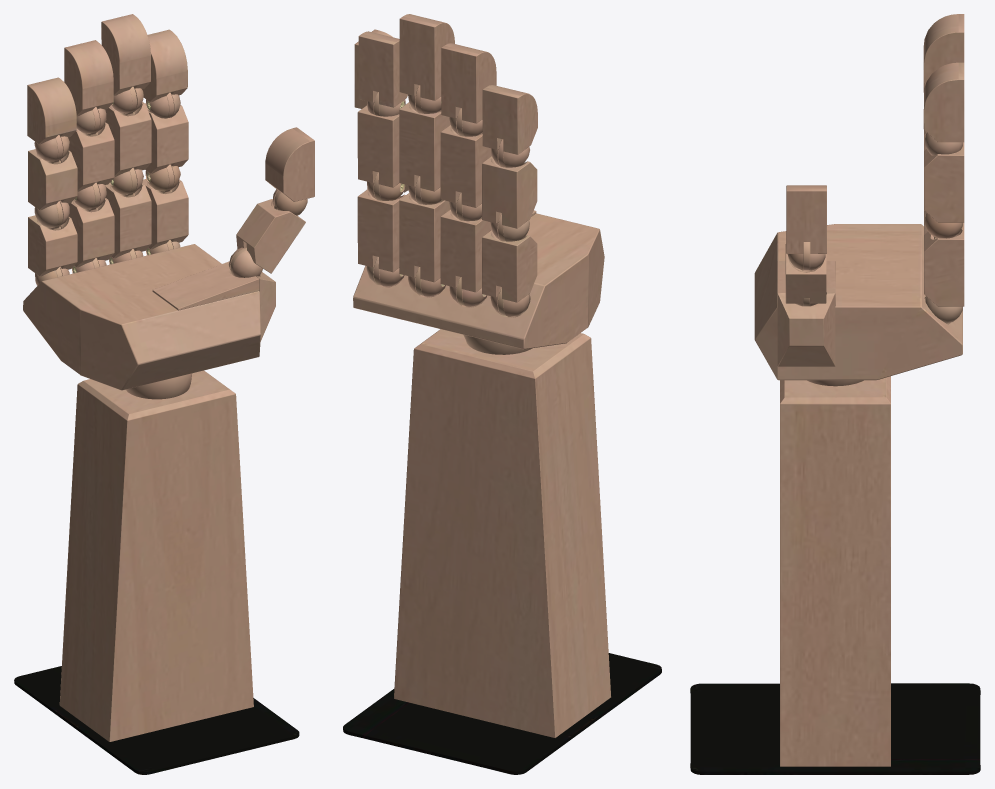
Rendered from lanespelare-accessories-stand.glb.
The picture shows the model from 3 angles, left to right: view 1: azimuth 30°, elevation 25°; view 2: azimuth 150°, elevation 25°; view 3: azimuth 270°, elevation 25°; orthographic projection. The views are drawn at different scales.
Parts seen in each view (by area): view 1: model; view 2: model; view 3: model.
Boxes of the visible parts, bbox=[...] form: model: bbox=[14, 14, 314, 774]; model: bbox=[343, 14, 661, 774]; model: bbox=[690, 14, 980, 774].
Size of the model in its own units: 0.1205 by 0.3412 by 0.1251.
1 material, 1 textured.
